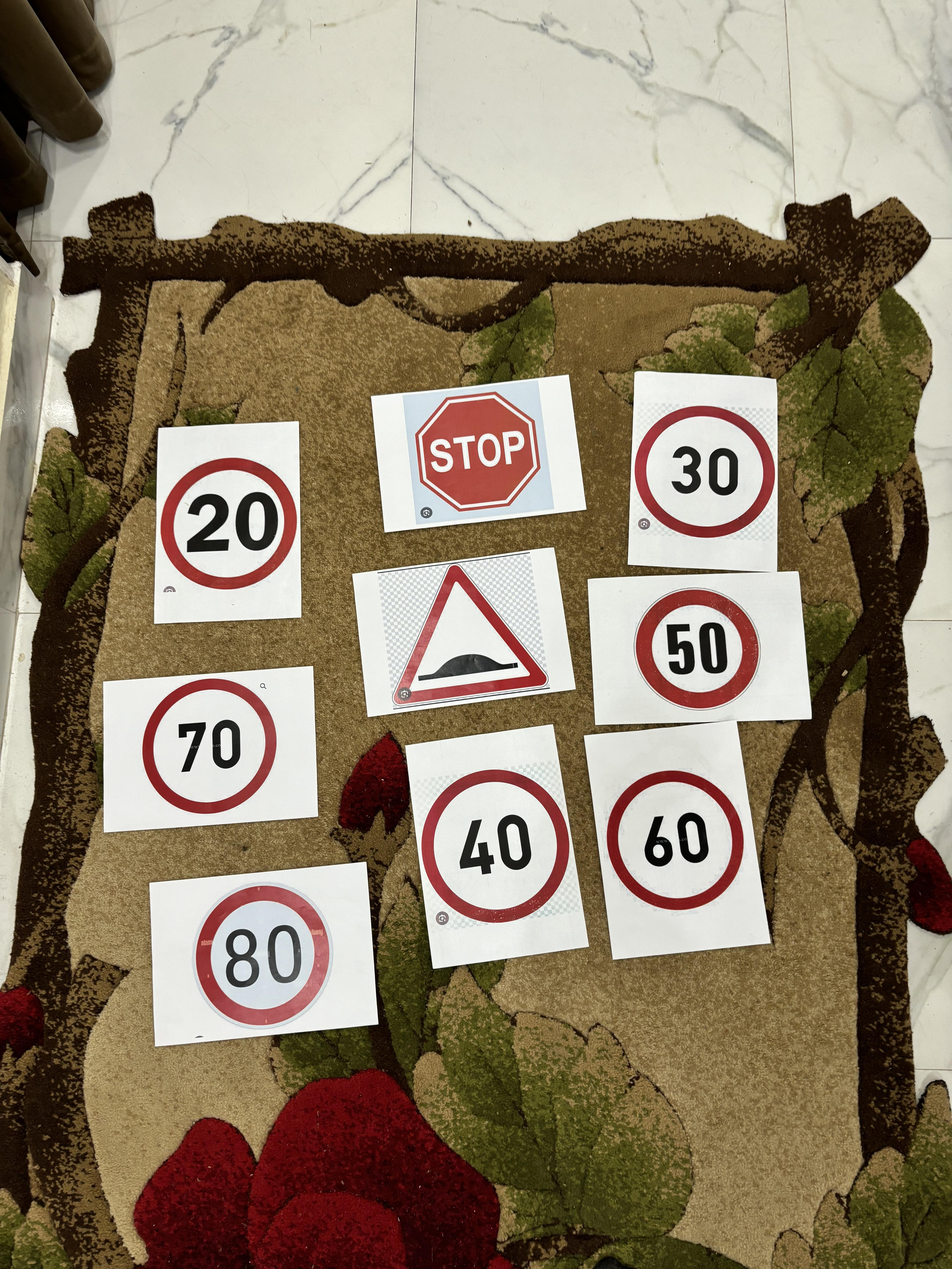20-Speed: (157, 449, 303, 593)
30-speed: (634, 403, 783, 545)
40-Speed: (417, 771, 572, 920)
50-Speed: (632, 587, 767, 710)
60-Speed: (607, 767, 747, 915)
70-Speed: (139, 676, 280, 815)
80-Speed: (194, 887, 334, 1029)
Hump: (394, 567, 538, 709)
Stop: (408, 394, 554, 516)
